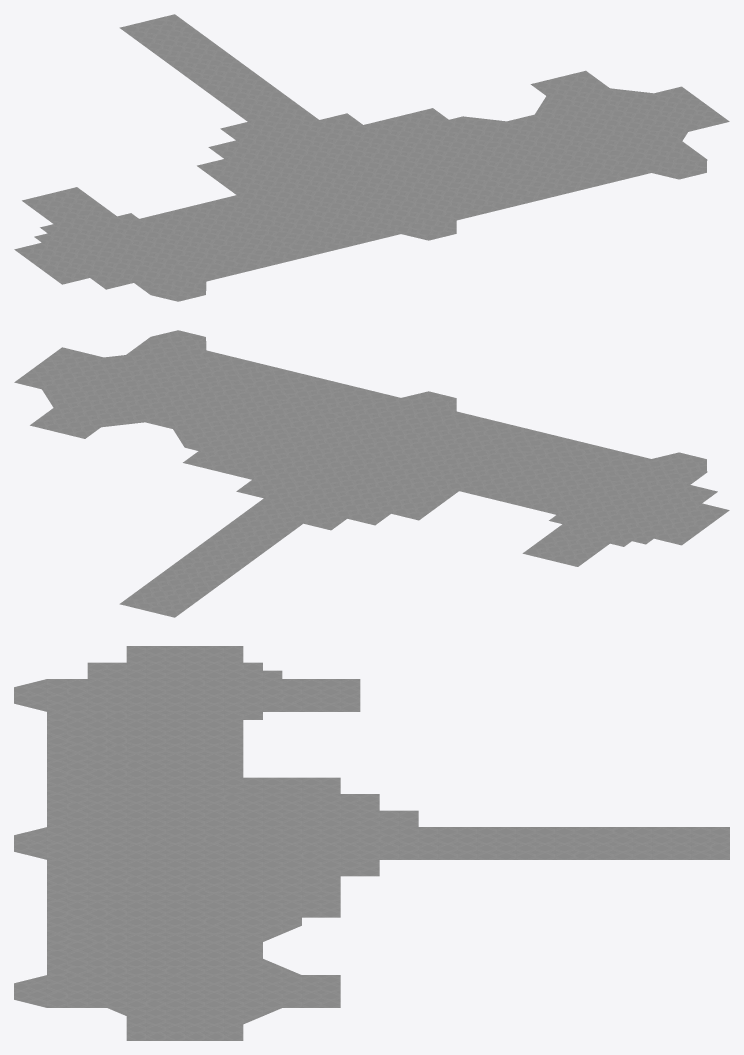
File: Crossing_Floor3.fbx
3 views of the same model, one above another, from view 1: azimuth 30°, elevation 25°; view 2: azimuth 150°, elevation 25°; view 3: azimuth 270°, elevation 25° (orthographic). The views are drawn at different scales.
Visible parts, largest first — view 1: Crossing_Floor; view 2: Crossing_Floor; view 3: Crossing_Floor.
Boxes of the visible parts, x1=… form: Crossing_Floor: x1=14, y1=14, x2=729, y2=301; Crossing_Floor: x1=14, y1=330, x2=729, y2=617; Crossing_Floor: x1=14, y1=646, x2=729, y2=1040.
Size of the model in its own units: 288 by 4.47e-08 by 221.
1 material, 1 textured.
